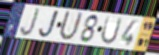4: (119, 18, 139, 47)
8: (79, 13, 100, 45)
J: (37, 10, 60, 39), (19, 7, 41, 37)
U: (57, 10, 84, 43), (99, 16, 124, 46)
